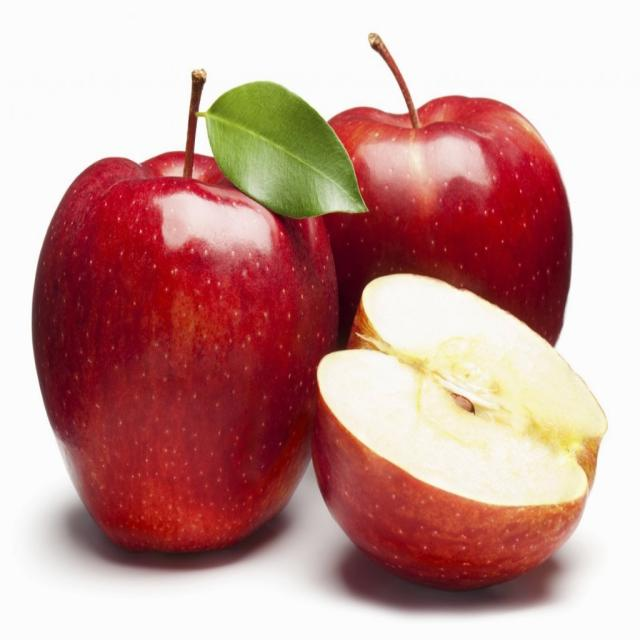manzana: (24, 54, 354, 571), (282, 40, 589, 445), (301, 250, 605, 597)
